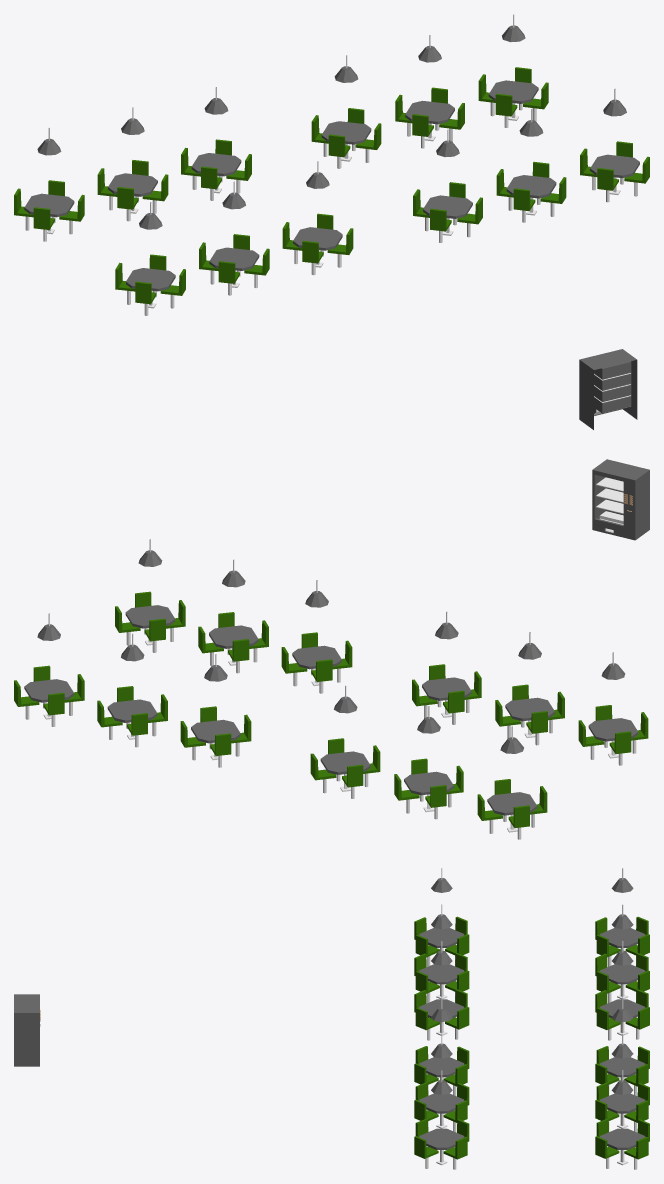
Rendered from foodspace.fbx.
3 views of the same model, one above another, from view 1: azimuth 30°, elevation 25°; view 2: azimuth 150°, elevation 25°; view 3: azimuth 270°, elevation 25° (orthographic). The views are drawn at different scales.
Visible parts, largest first — view 1: foodspace; view 2: foodspace; view 3: foodspace.
Part boxes in pixels (x1=…): foodspace: x1=14, y1=14, x2=649, y2=429; foodspace: x1=14, y1=459, x2=649, y2=839; foodspace: x1=14, y1=868, x2=649, y2=1169.
Bounding box in the file's own units: 1797 × 345 × 2145.
